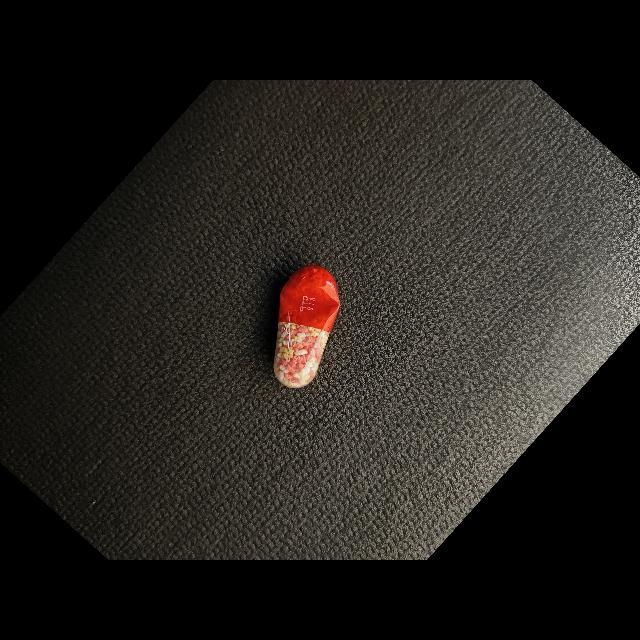Defective Capsule: (274, 265, 341, 370)
